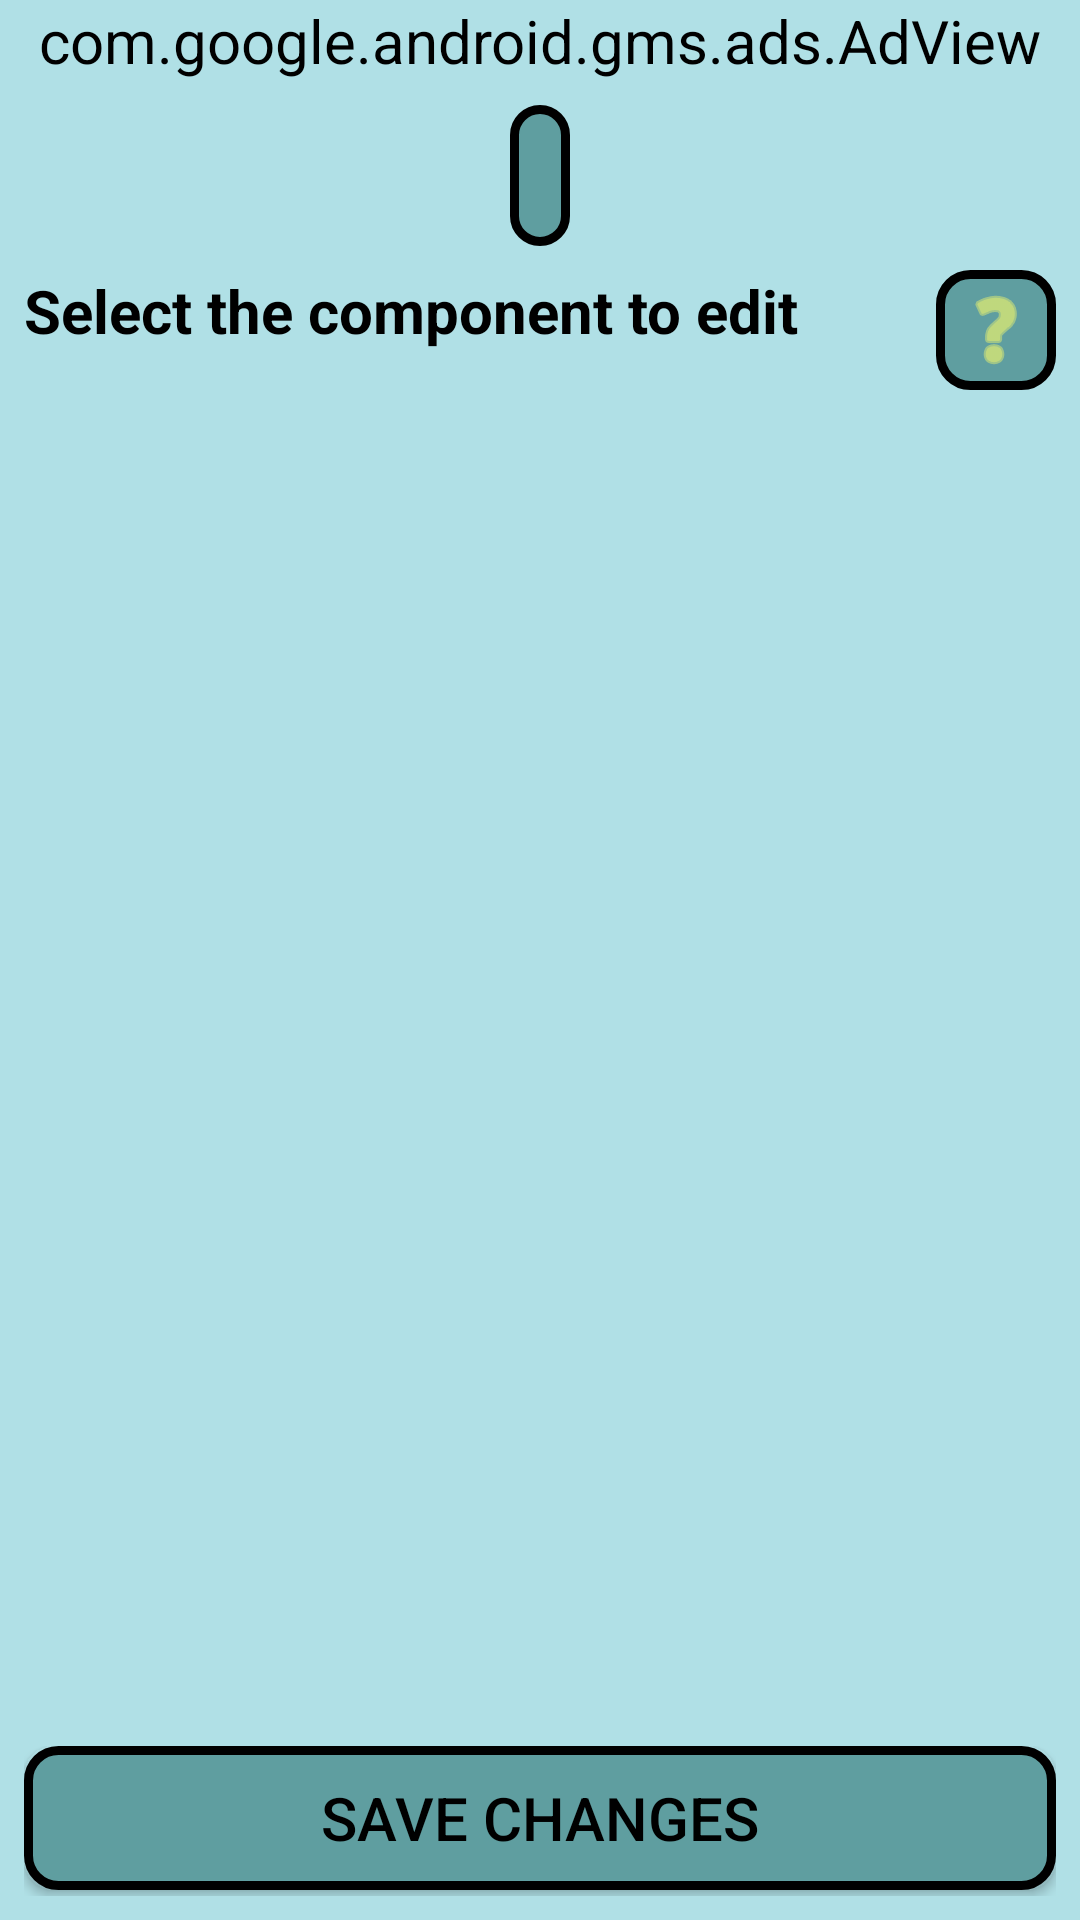

Screen size 1080 x 1920. Icon name, then its center in pixels as (x=x, y=y):
Information: (x=996, y=330)
